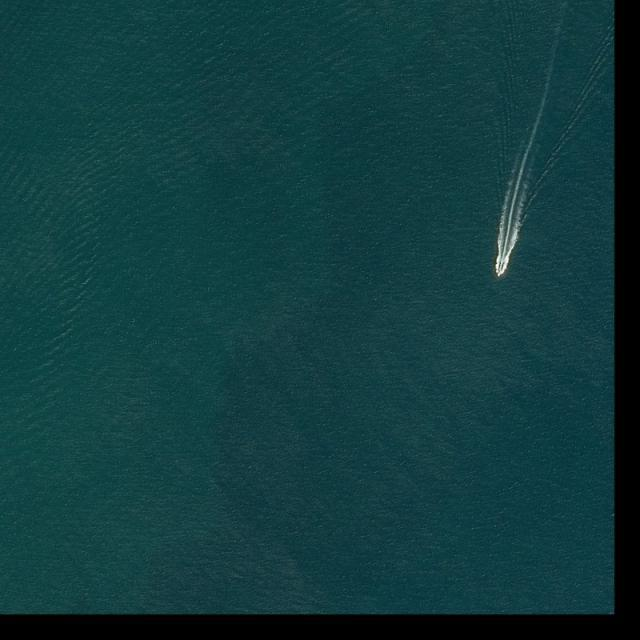ship: (496, 266, 504, 278)
